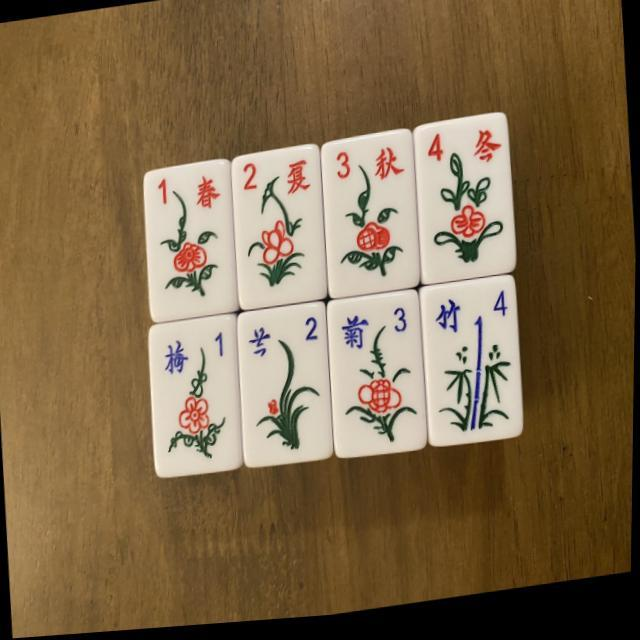bf1: (146, 312, 247, 480)
bf2: (237, 303, 338, 472)
bf3: (330, 296, 427, 462)
bf4: (418, 279, 526, 455)
bs1: (138, 158, 238, 327)
bs2: (228, 144, 329, 310)
bs3: (322, 137, 419, 296)
bs4: (407, 116, 518, 291)
